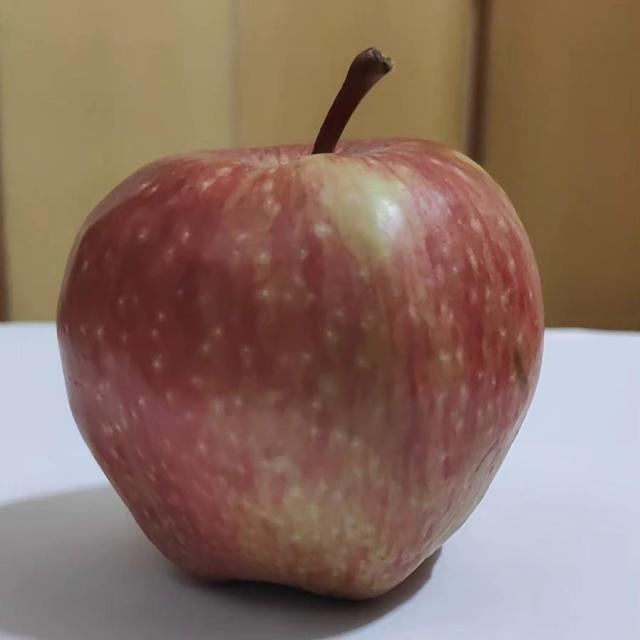Apple: (57, 49, 542, 597)
